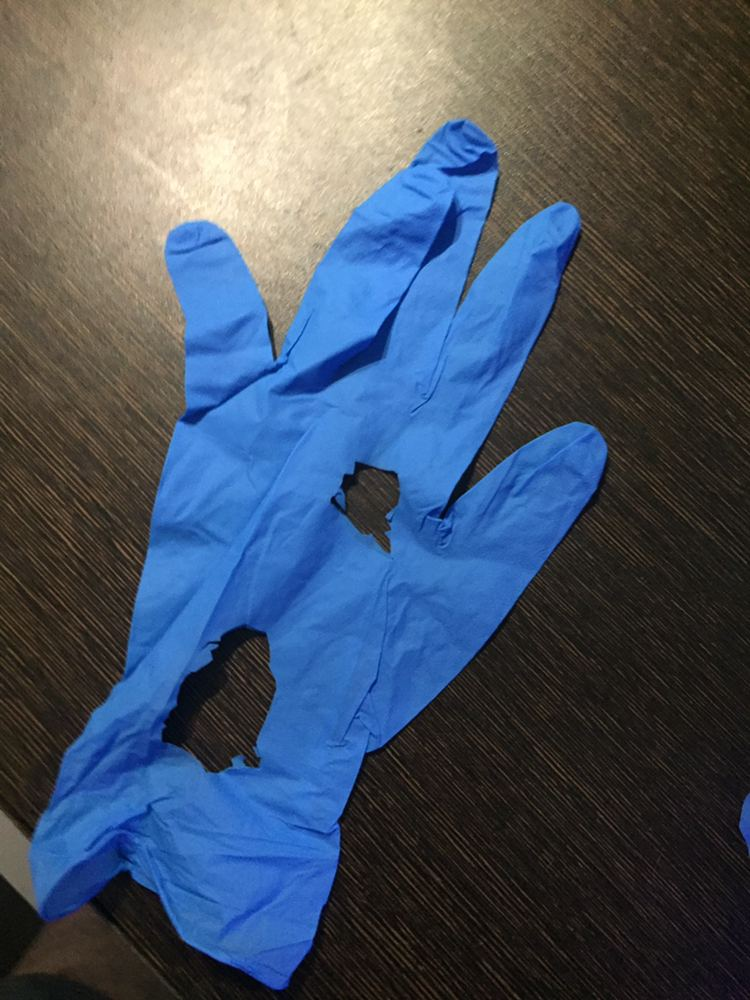defected: (70, 101, 614, 953)
